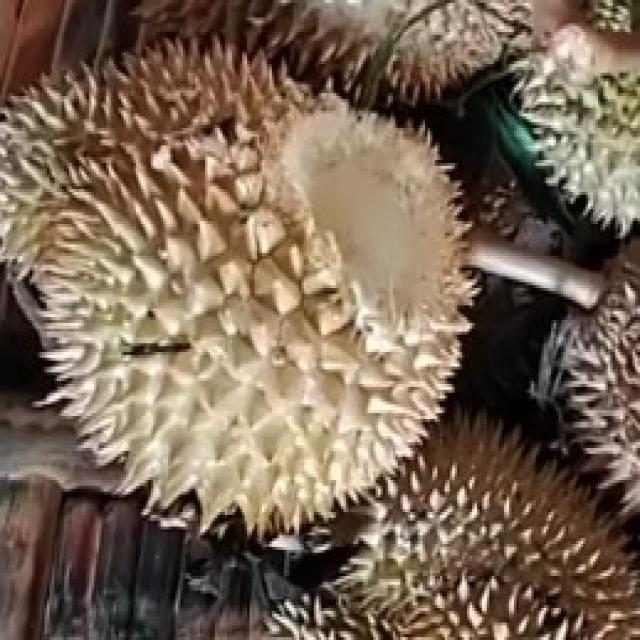defective: (1, 26, 475, 532)
